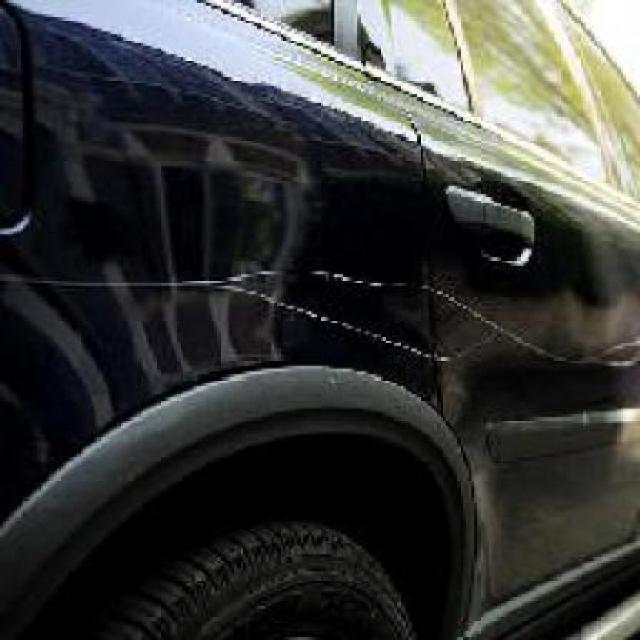dent-or-scratch: (48, 257, 638, 377)
